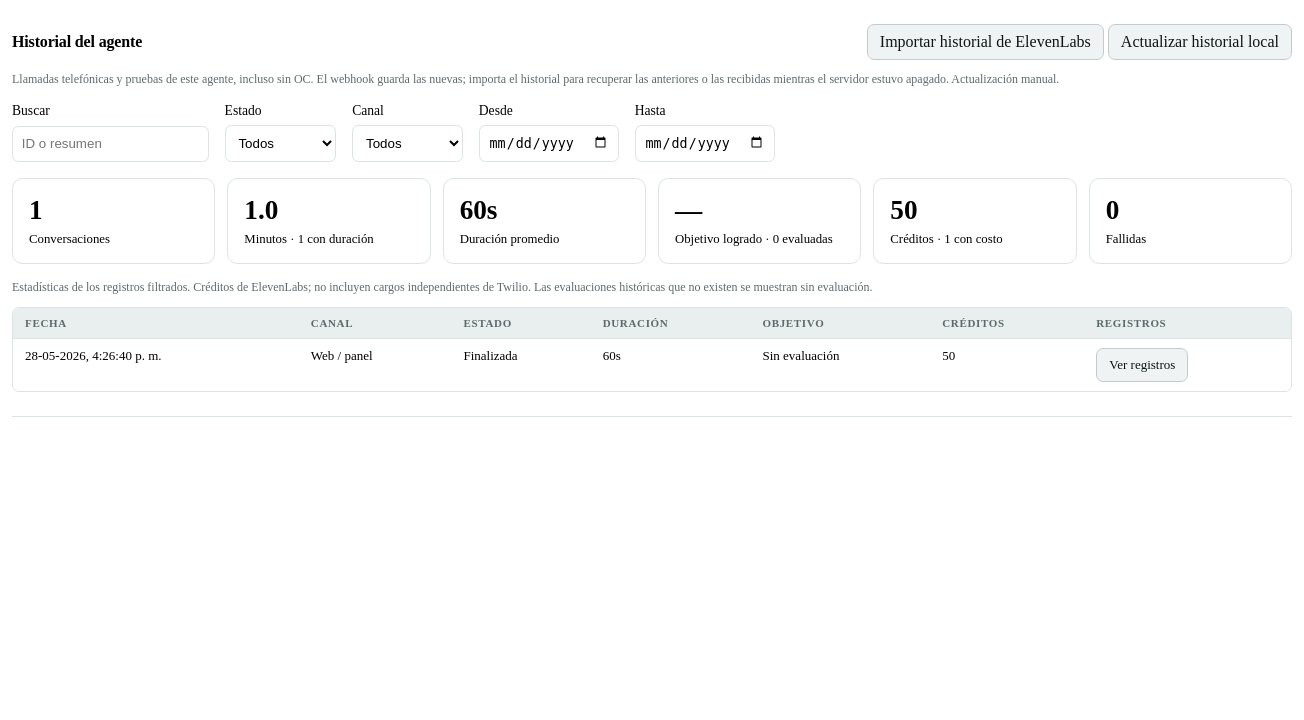
Scenario: historial del agente › muestra conversaciones sin OC, registros y estadísticas sin inventar éxito; solo importa por acción manual
Check: the text "Sin evaluación" is shown, box [750,338,930,391]
Check: the text "Objetivo logrado · 0 evaluadas" is shown, box [675,232,844,247]
Click the button with aria-label "Ver conversación conv_panel".
click(1142, 365)  # box [1096,348,1188,382]
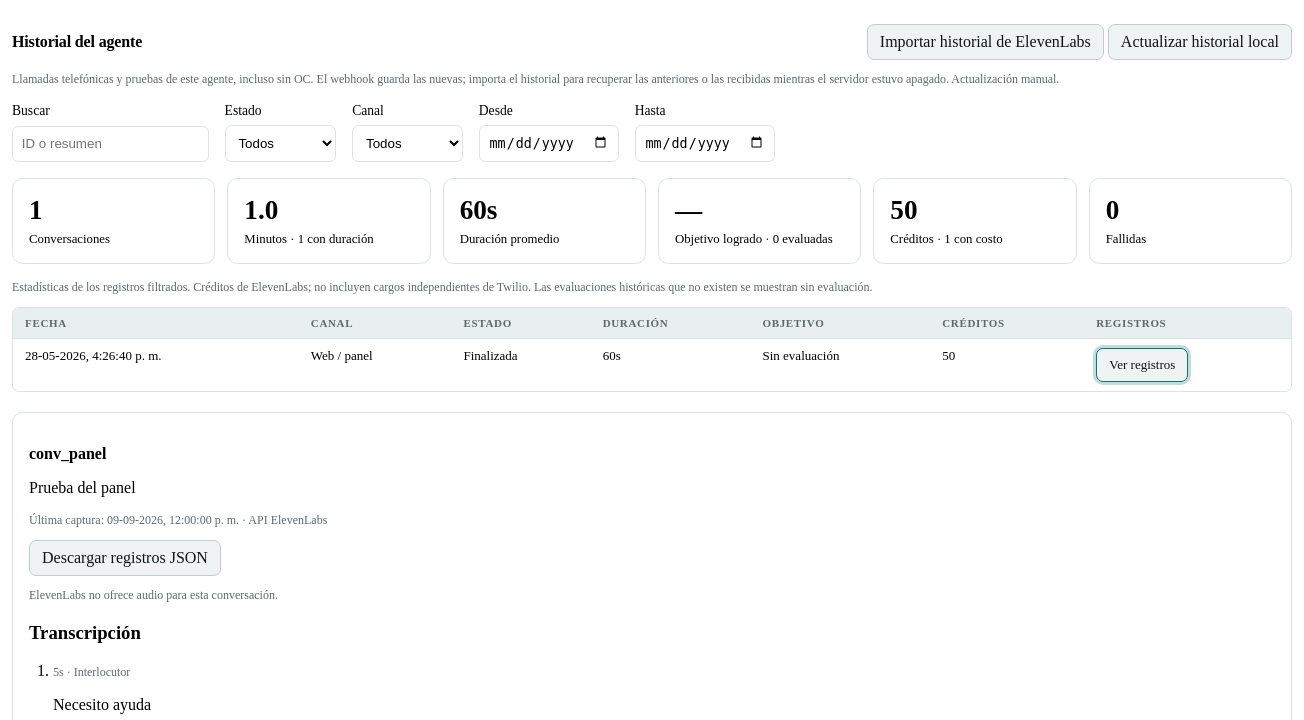
Check: the text "Necesito ayuda" is shown, box [53,696,151,713]
Check: the button "Descargar registros JSON" is shown, box [29,540,221,576]
Click the button "Importar historial de ElevenLabs".
click(985, 42)  # box [867,24,1104,60]
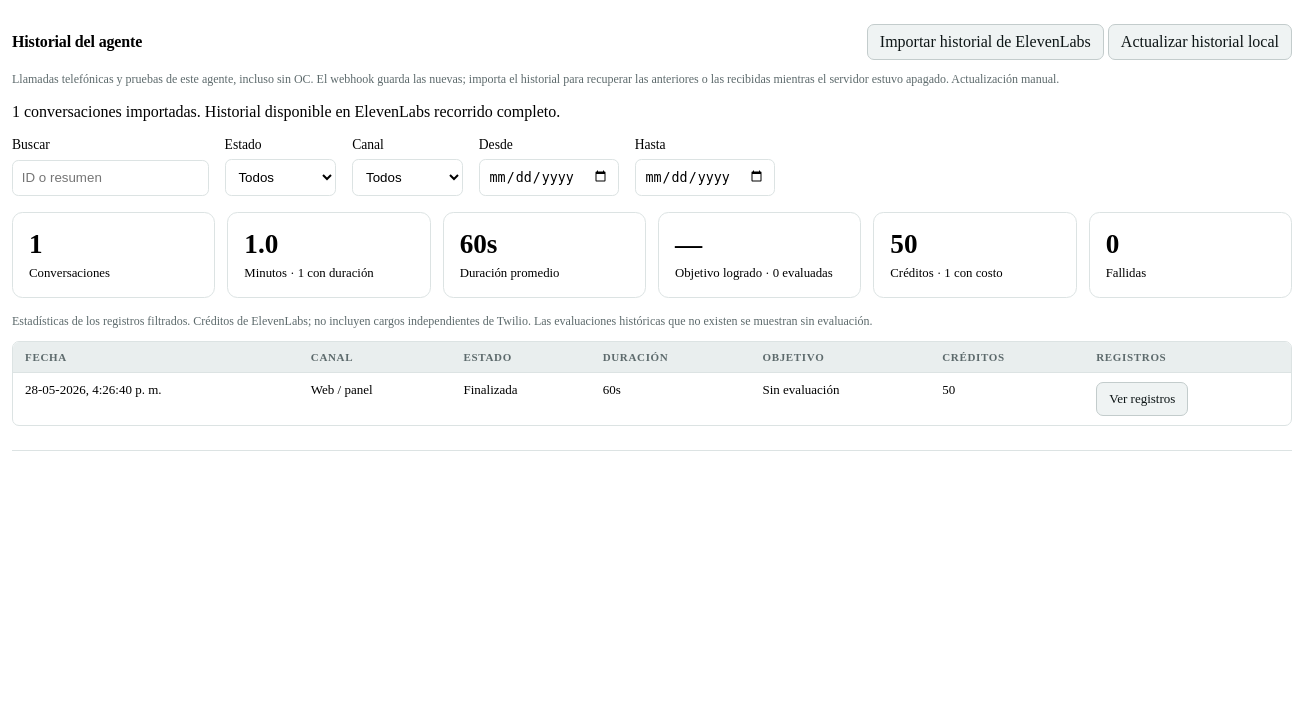
Check: the text "1 conversaciones importadas" is shown, box [12,103,560,120]
Select "Teléfono" in the dropdown labelled "Canal" at (408, 177), box [352,159,463,196]
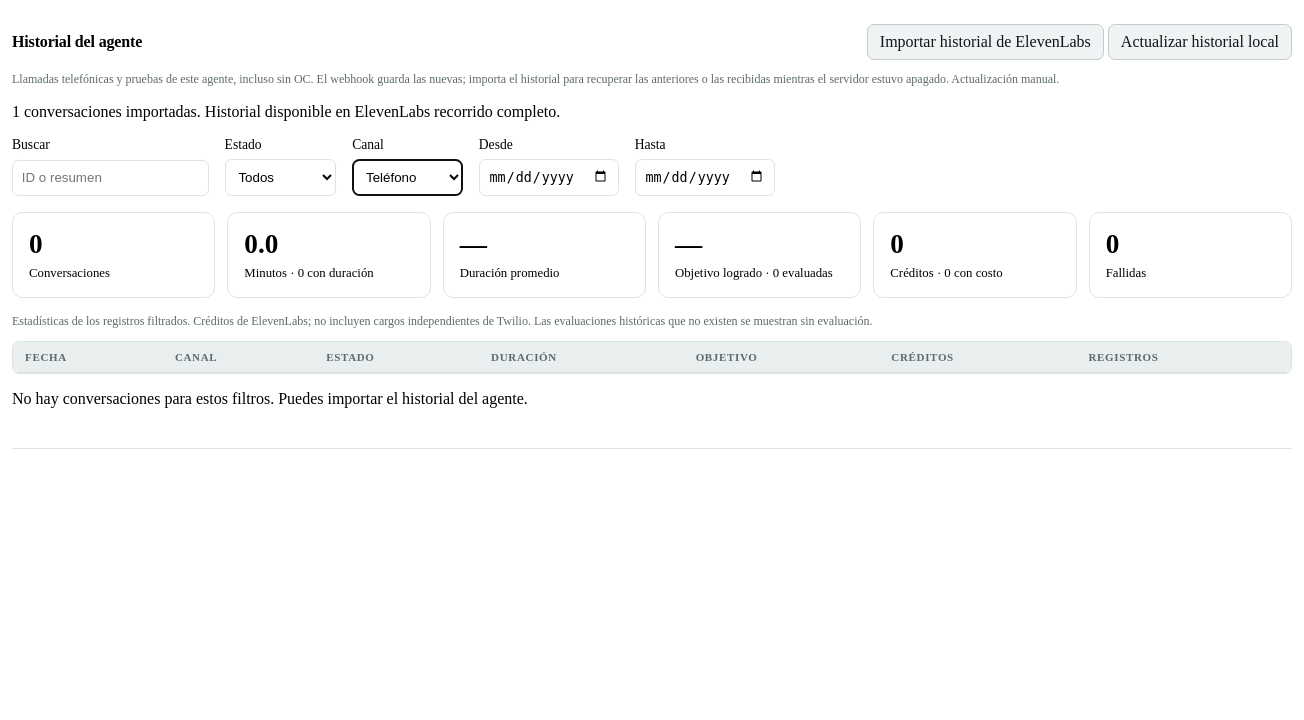
Check: the text "No hay conversaciones para estos filtros" is shown, box [12,390,528,407]
